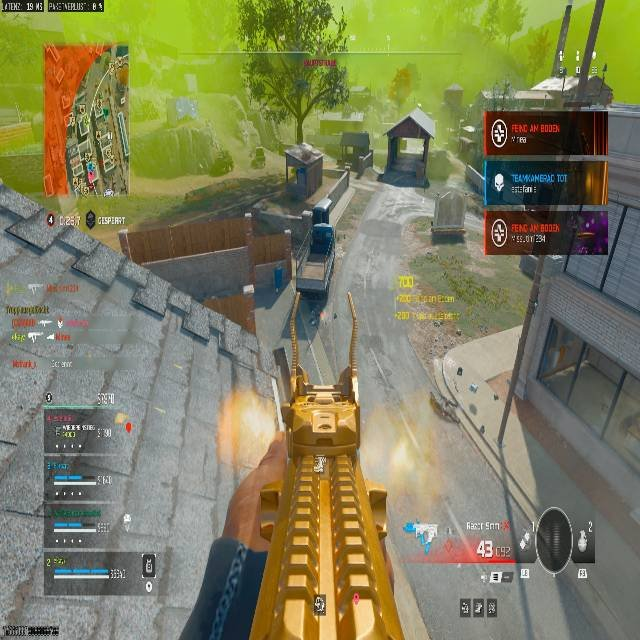head: (282, 144, 323, 188)
